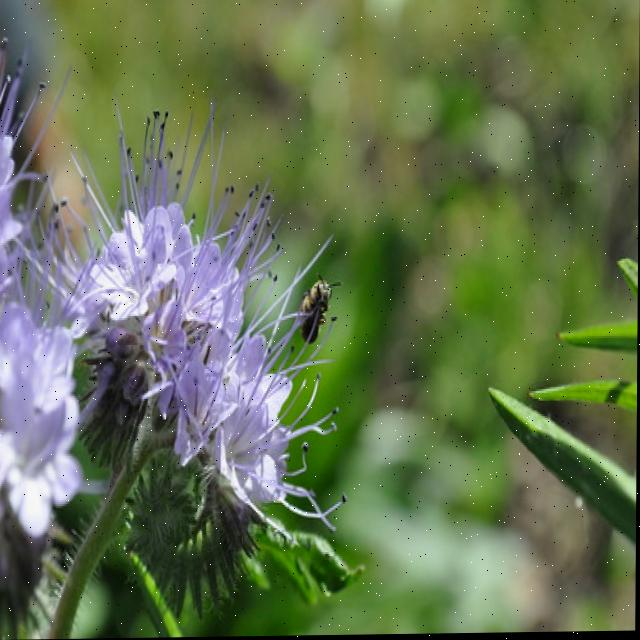Seladonia: (296, 261, 340, 355)
